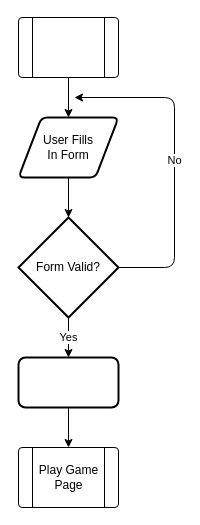
Image size: 200x525. Some labels were removed from this diagram. The shapes that lost their labels are listed below. From the top down, each one's centre as x and y in pixels, then its label:
At (68,47): "Start Game Page".
At (68,382): "Start Game".
